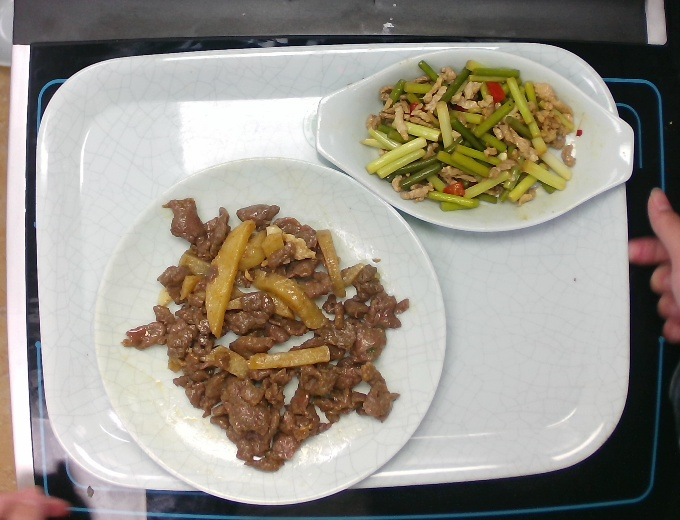JYsf-Da_Yuan_Pan: (85, 148, 455, 512)
JYsf-Yu_Pan: (314, 44, 635, 231)
